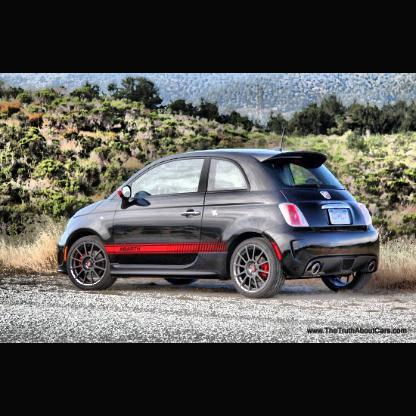FIAT 500 Abarth 2012: (56, 147, 382, 298)
